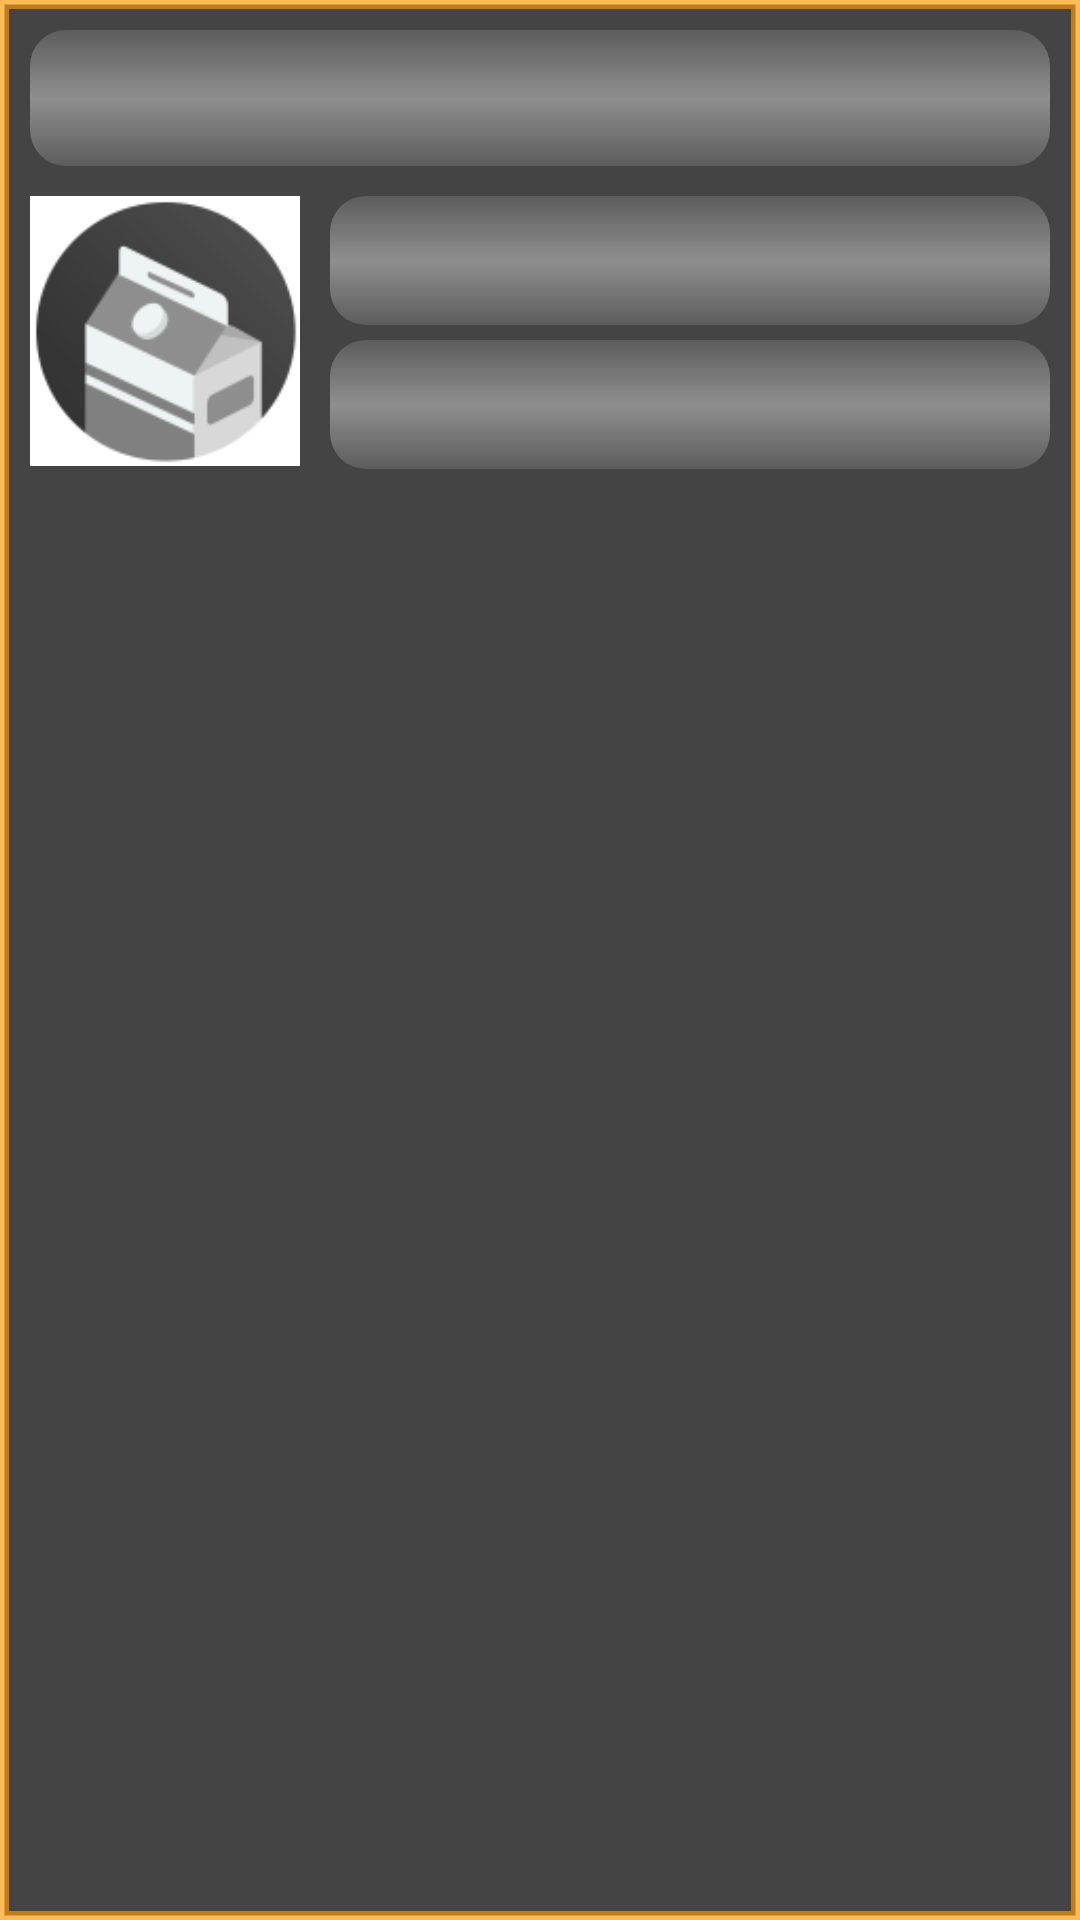

Point at icon controls on the screen. Image size 1080*1920, points as (x,y).
List Item Product Image: (165,331)
